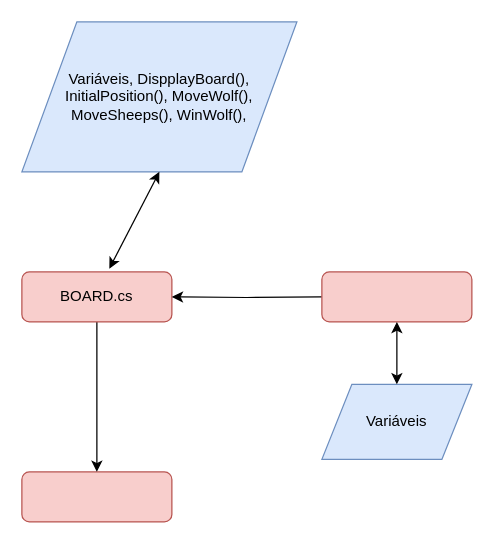
The diagram is 494 pixels wide and 544 high, and some of its shapes have lost their labels. The shapes that lost their labels are listed below. From the top down, each one's centre as x and y in pixels, then its label:
point (396, 296): Symbols.cs
point (96, 496): Program.cs
